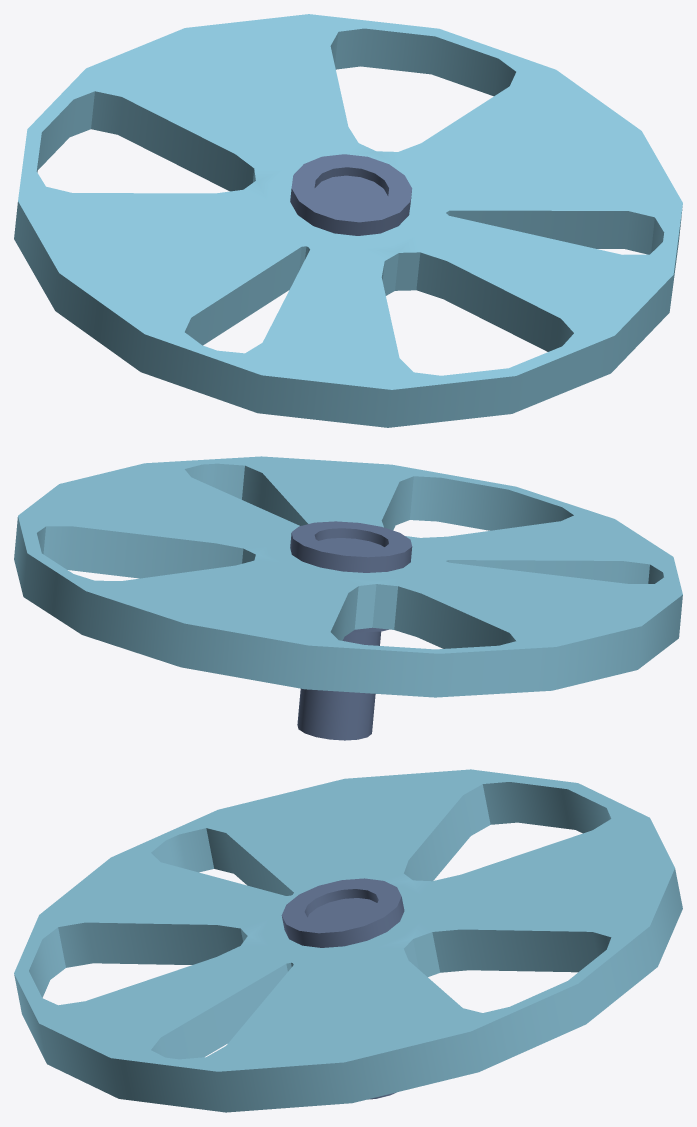
File: ARückenGear.fbx
3 views of the same model, one above another, from view 1: azimuth 30°, elevation 25°; view 2: azimuth 150°, elevation 25°; view 3: azimuth 270°, elevation 25° (orthographic).
Visible parts, largest first — view 1: ARückenGear; view 2: ARückenGear; view 3: ARückenGear.
Boxes of the visible parts, bbox=[...] form: ARückenGear: bbox=[14, 14, 682, 427]; ARückenGear: bbox=[14, 456, 682, 740]; ARückenGear: bbox=[14, 769, 682, 1112].
Bounding box in the file's own units: 200 × 72.65 × 199.
